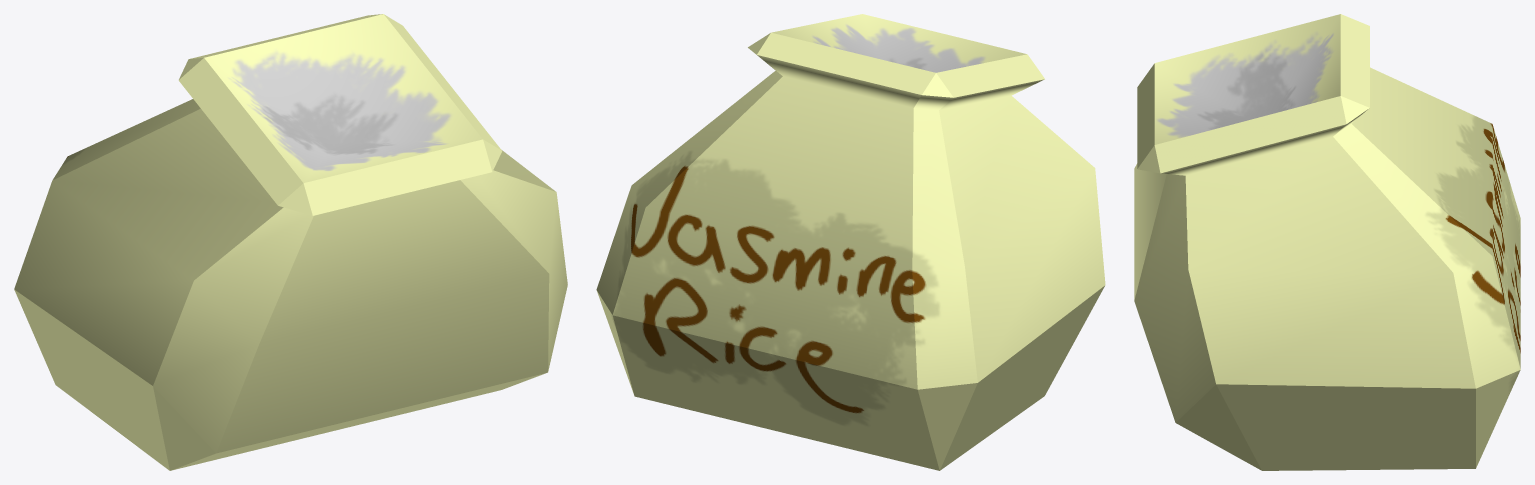
File: RiceBagFBX.fbx
The picture shows the model from 3 angles, left to right: view 1: azimuth 30°, elevation 25°; view 2: azimuth 150°, elevation 25°; view 3: azimuth 270°, elevation 25°; orthographic projection. The views are drawn at different scales.
Parts seen in each view (by area): view 1: pCube1; view 2: pCube1; view 3: pCube1.
Part boxes in pixels (box(x1,y1,x2,y2)): pCube1: box(14, 14, 567, 470); pCube1: box(596, 14, 1105, 470); pCube1: box(1134, 14, 1520, 470).
Bounding box in the file's own units: 100 × 83.8 × 86.24.
Materials: 1 (1 with a texture image).
